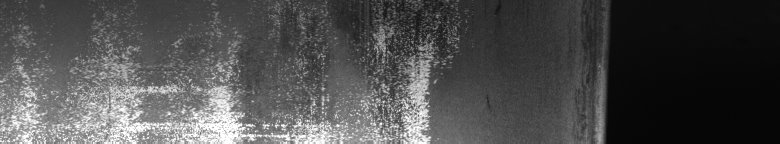kb: (4, 4, 489, 136)
